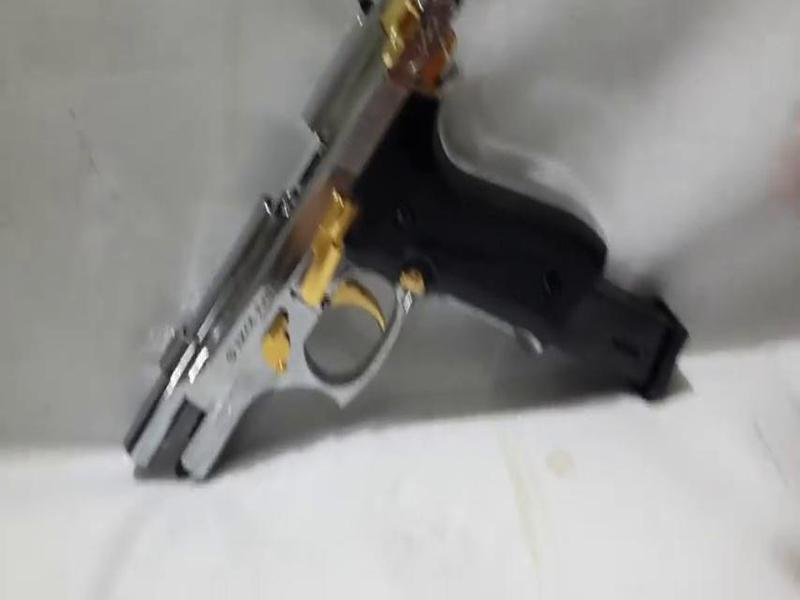Pistola: (135, 1, 607, 489)
